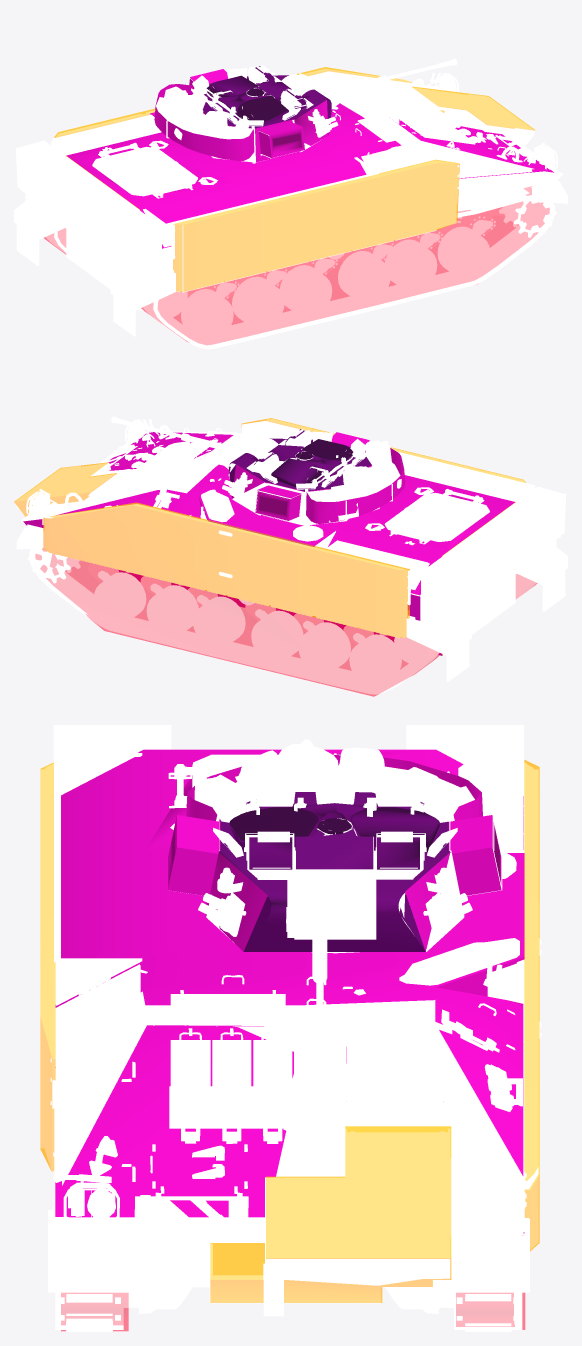
3 views of the same model, one above another, from view 1: azimuth 30°, elevation 25°; view 2: azimuth 150°, elevation 25°; view 3: azimuth 270°, elevation 25° (orthographic). The views are drawn at different scales.
Parts seen in each view (by area): view 1: 28, 28_4, FV510_trackright_col2, FV510_UA_col_1, FV510_col, 28_2, FV510_turret_col_1, FV510_turret_col, 28_6, 28_8, FV510_UA_col, FV510_col_2 (+1 smaller); view 2: 28, 28_4, FV510_UA_col_1, FV510_trackleft_col2, FV510_col, 28_3, 28_6, FV510_turret_col_1, FV510_turret_col, 28_8, FV510_UA_col, FV510_col_2 (+1 smaller); view 3: 28, FV510_col, 28_4, FV510_UA_col, FV510_col_2, FV510_turret_col, 28_6, FV510_UA_col_1, FV510_turret_col_1, 28_8, 28_5.001, 28_3 (+3 smaller).
Boxes of the visible parts, x1,y1,x2,y2 form: 28: [14, 72, 567, 341]; 28_4: [53, 69, 534, 292]; FV510_trackright_col2: [141, 186, 549, 344]; FV510_UA_col_1: [54, 67, 459, 291]; FV510_col: [66, 103, 550, 248]; 28_2: [143, 186, 555, 349]; FV510_turret_col_1: [154, 69, 328, 162]; FV510_turret_col: [202, 66, 331, 134]; 28_6: [155, 65, 338, 163]; 28_8: [154, 86, 249, 139]; FV510_UA_col: [412, 86, 535, 130]; FV510_col_2: [399, 119, 553, 172]; 28: [16, 419, 567, 686]; 28_4: [15, 419, 527, 638]; FV510_UA_col_1: [43, 418, 525, 637]; FV510_trackleft_col2: [35, 548, 440, 696]; FV510_col: [23, 435, 514, 655]; 28_3: [29, 548, 439, 694]; 28_6: [222, 428, 392, 525]; FV510_turret_col_1: [232, 432, 405, 523]; FV510_turret_col: [228, 429, 371, 497]; 28_8: [314, 440, 401, 522]; FV510_UA_col: [14, 462, 116, 516]; FV510_col_2: [56, 432, 232, 515]; 28: [48, 725, 529, 1323]; FV510_col: [55, 749, 524, 1200]; 28_4: [40, 762, 541, 1316]; FV510_UA_col: [210, 1126, 451, 1302]; FV510_col_2: [55, 1025, 524, 1233]; FV510_turret_col: [219, 792, 449, 951]; 28_6: [169, 753, 502, 953]; FV510_UA_col_1: [40, 760, 539, 1251]; FV510_turret_col_1: [168, 755, 501, 951]; 28_8: [194, 739, 474, 807]; 28_5.001: [286, 879, 375, 1051]; 28_3: [454, 1292, 522, 1331].
Size of the model in its own units: 6.51 by 3.13 by 3.12.
